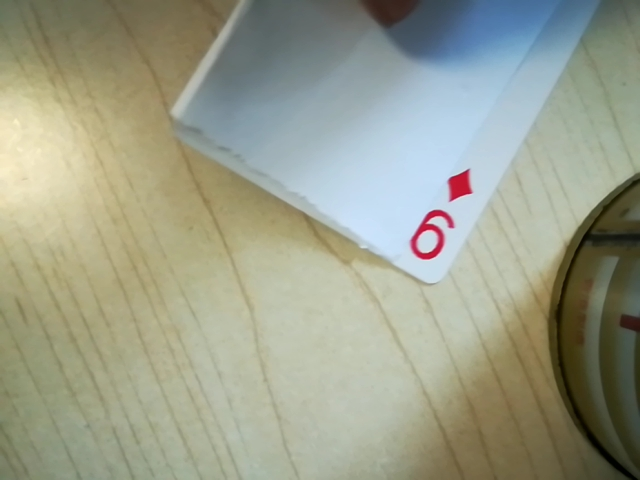fk 9: (401, 166, 477, 265)
